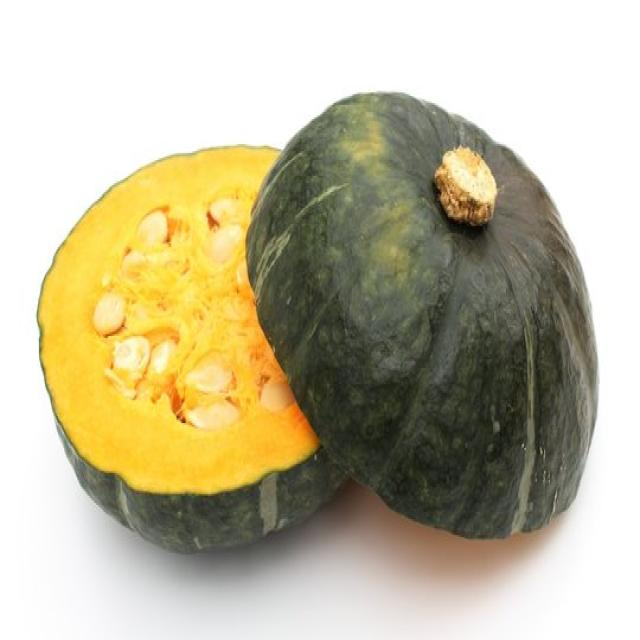Pumpkin: (244, 87, 600, 541), (35, 140, 351, 554)
